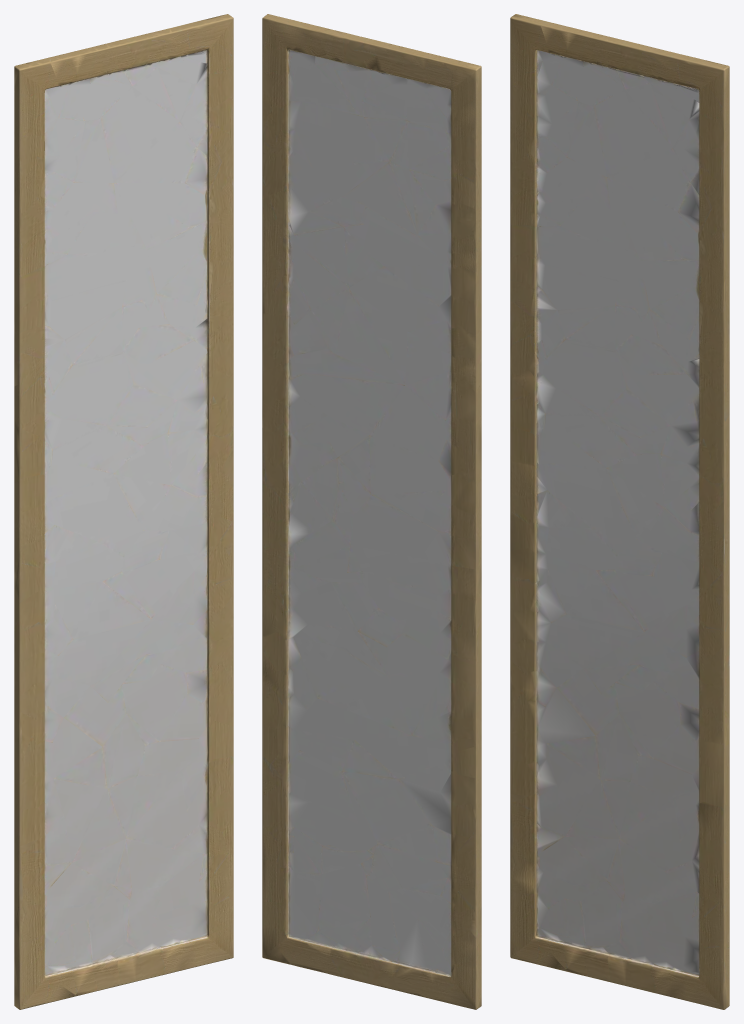
Rendered from spiegel.glb.
The picture shows the model from 3 angles, left to right: view 1: azimuth 30°, elevation 25°; view 2: azimuth 150°, elevation 25°; view 3: azimuth 330°, elevation 25°; orthographic projection.
Bounding box in the file's own units: 0.4547 × 1.9 × 0.0221.
Materials: 1 (1 with a texture image).
